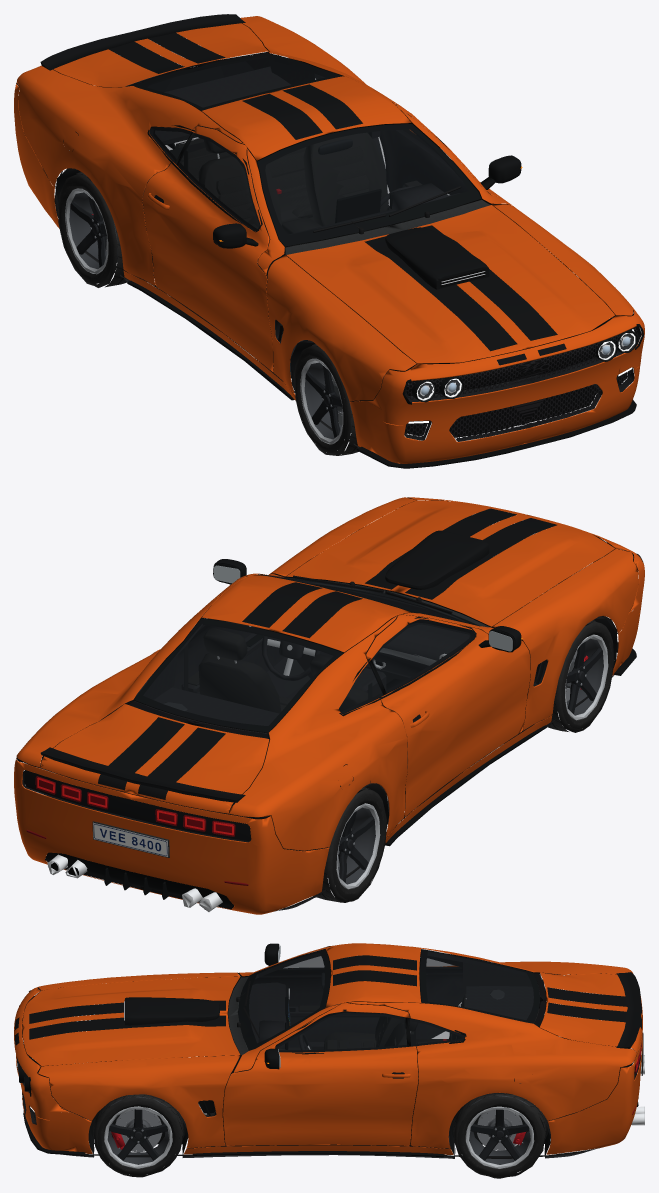
The model's file is muscle-coupe.glb.
The picture shows the model from 3 angles, top to bottom: view 1: azimuth 30°, elevation 25°; view 2: azimuth 150°, elevation 25°; view 3: azimuth 270°, elevation 25°; orthographic projection. The views are drawn at different scales.
Visible parts, largest first — view 1: Body, Wheel_RR, Wheel_FR; view 2: Body, Wheel_RR, Wheel_FR, Steering_Wheel; view 3: Body, Wheel_RL, Wheel_FL.
Part boxes in pixels (x1=…): Body: x1=14, y1=14, x2=644, y2=468; Wheel_RR: x1=58, y1=172, x2=129, y2=287; Wheel_FR: x1=294, y1=344, x2=358, y2=455; Body: x1=14, y1=497, x2=644, y2=914; Wheel_RR: x1=313, y1=787, x2=386, y2=902; Wheel_FR: x1=546, y1=620, x2=614, y2=732; Steering_Wheel: x1=261, y1=618, x2=320, y2=680; Body: x1=14, y1=943, x2=644, y2=1158; Wheel_RL: x1=453, y1=1093, x2=546, y2=1178; Wheel_FL: x1=93, y1=1094, x2=183, y2=1177.
Bounding box in the file's own units: 2.11 × 1.37 × 4.87.
60 materials, 11 textured.
